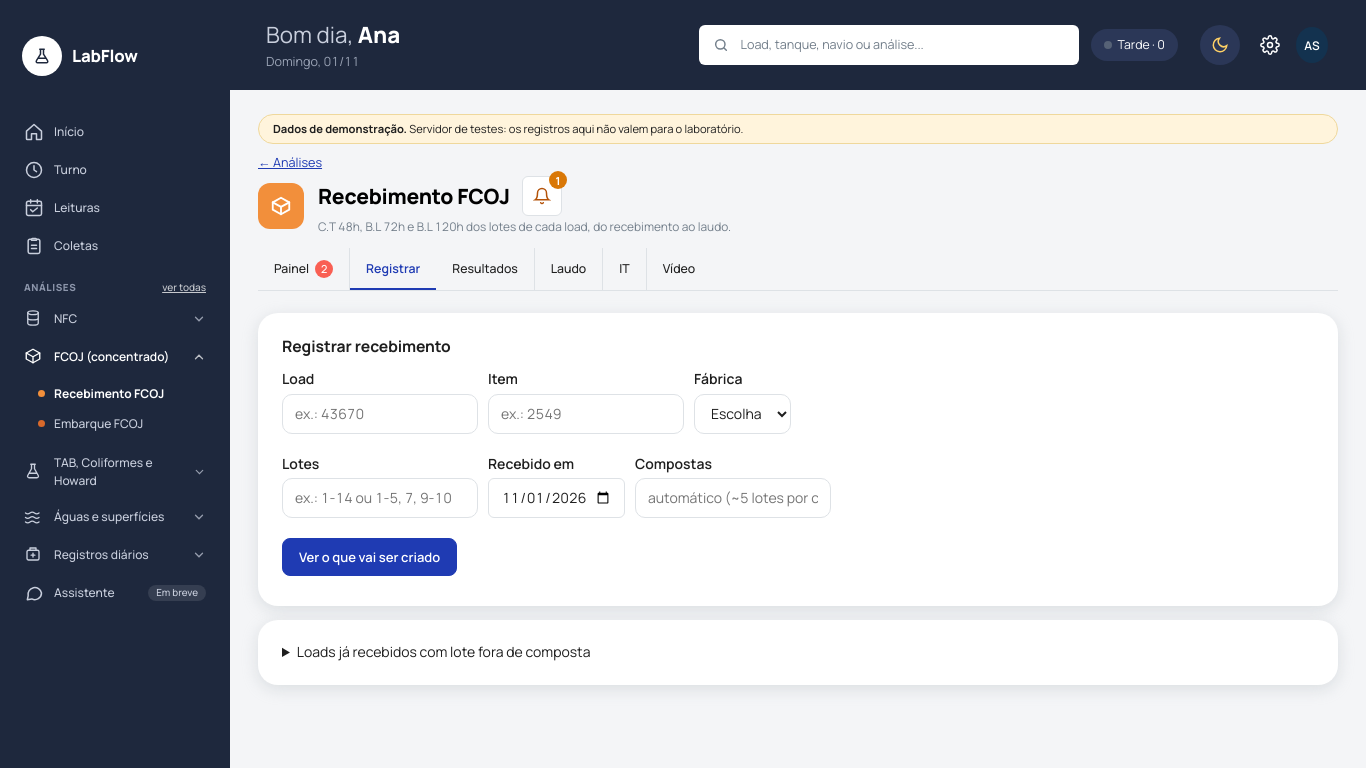
Test: Recebimento FCOJ como app (Fase E, E2) › registrar mostra a prévia do banco e só grava no Confirmar
This screenshot has width=1366, height=768.
Type "98701" into the field labelled "Load" at [380, 414], box [282, 394, 478, 434]
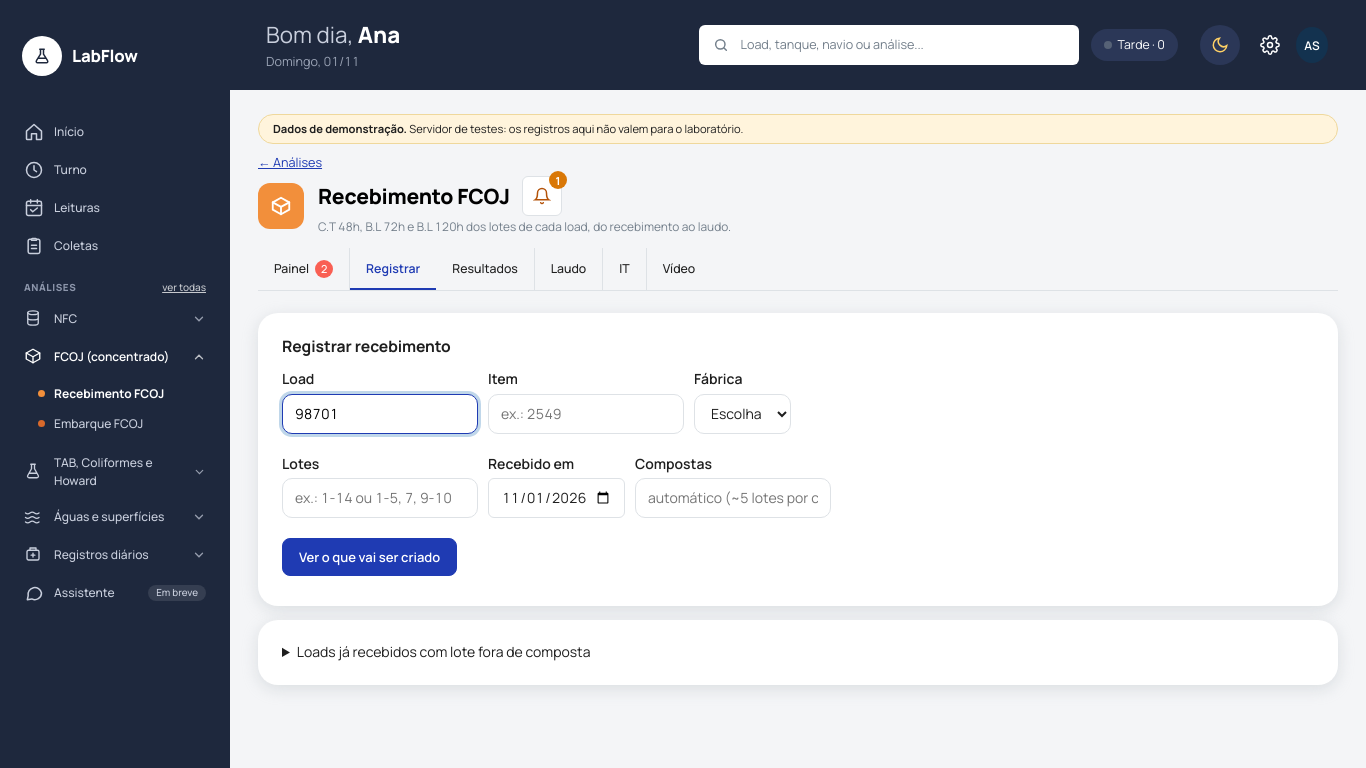
Type "99902" into the field labelled "Item" at [586, 414], box [488, 394, 684, 434]
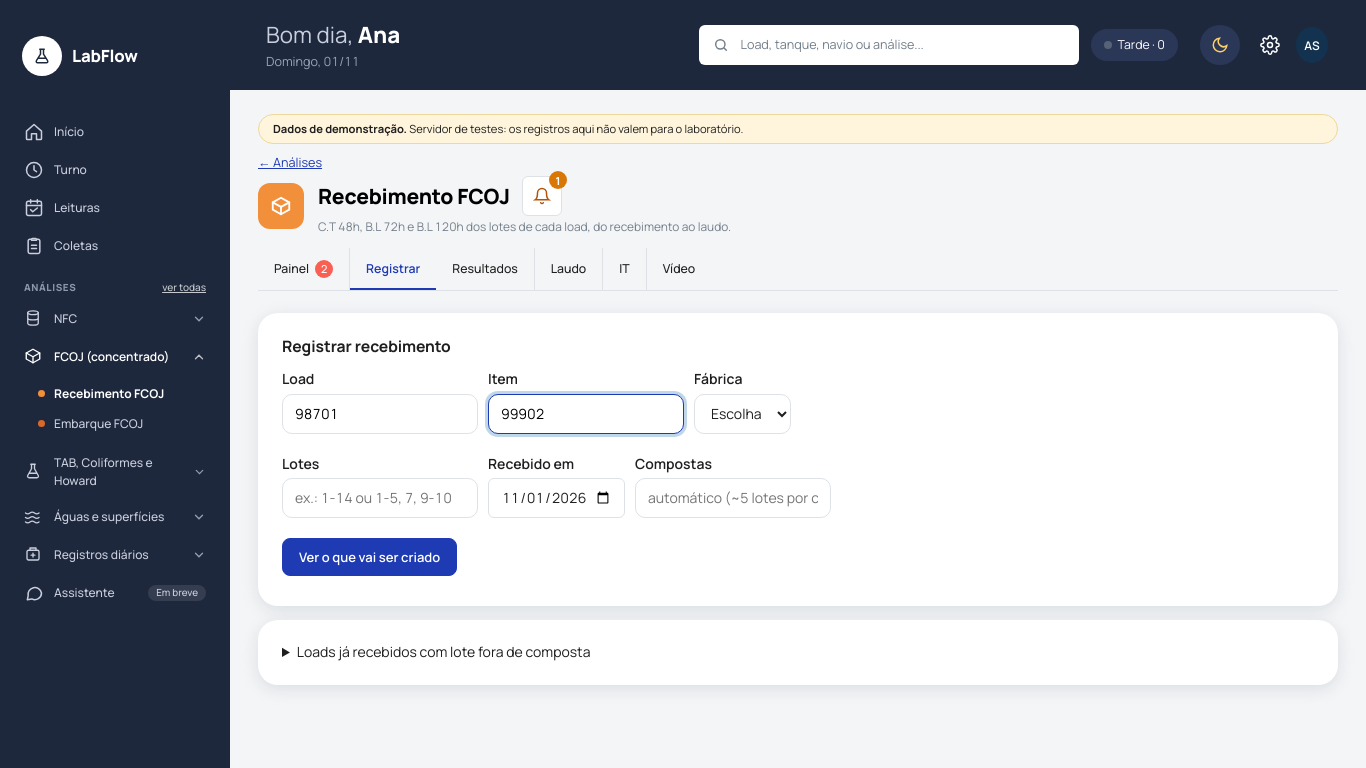
Select "AQA" in the dropdown labelled "Fábrica" at [742, 414], box [694, 394, 791, 434]
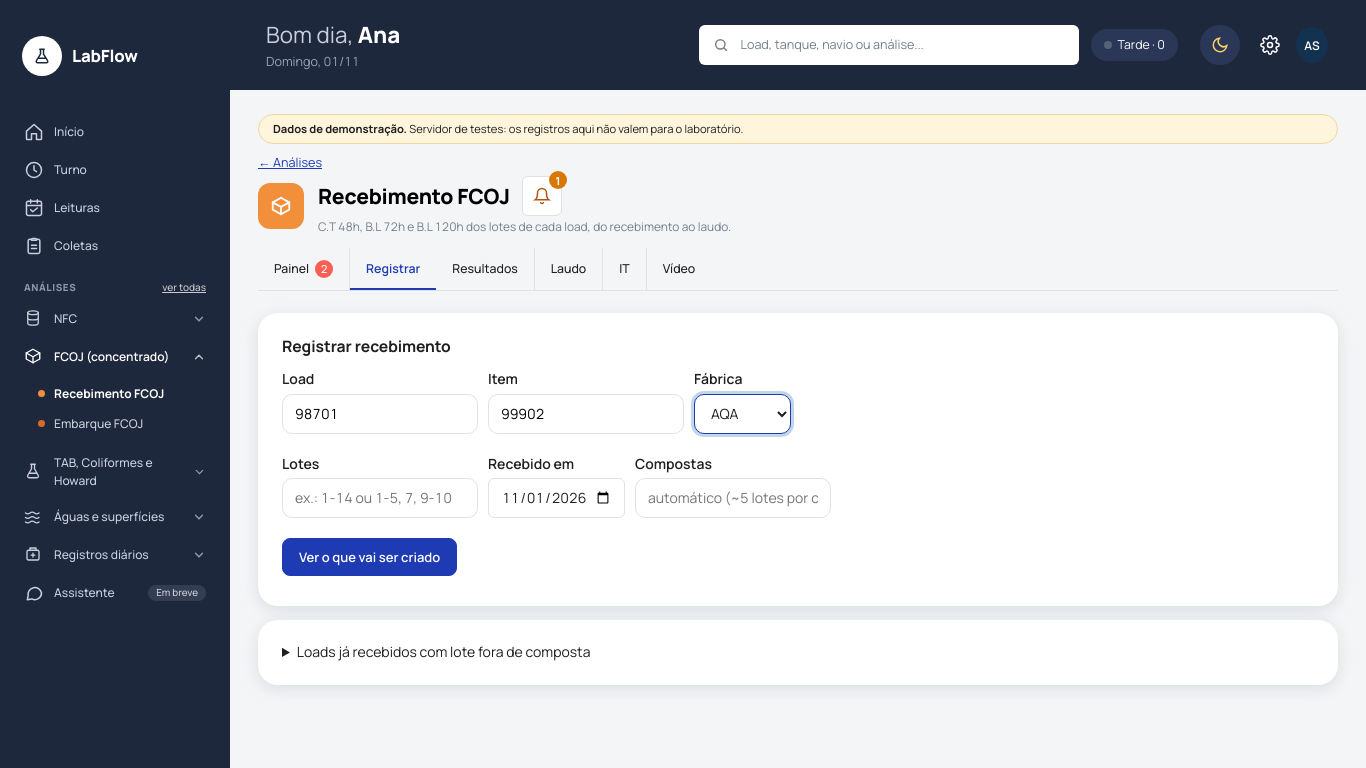
Type "1-3" into the field labelled "Lotes" at [380, 498], box [282, 478, 478, 518]
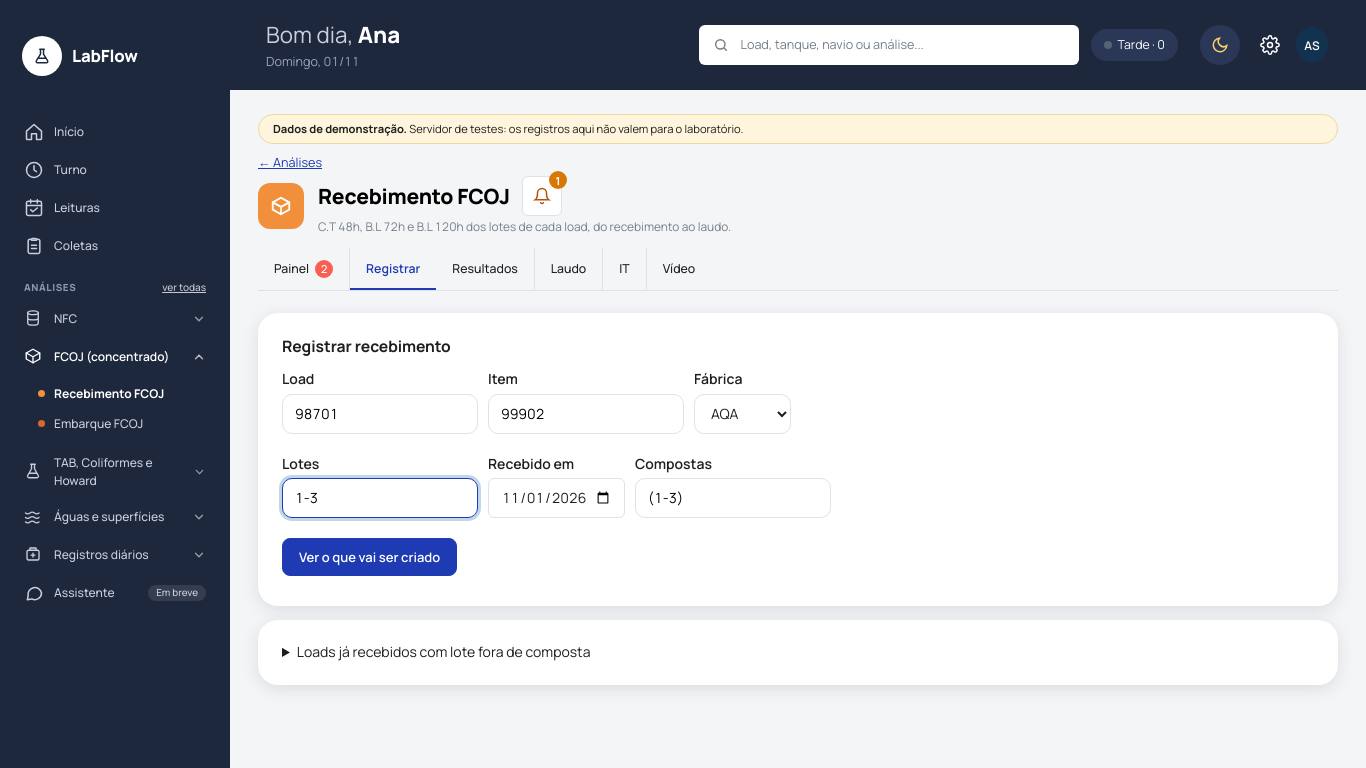
Click the button "Ver o que vai ser criado" at [370, 557], box [282, 538, 457, 576]
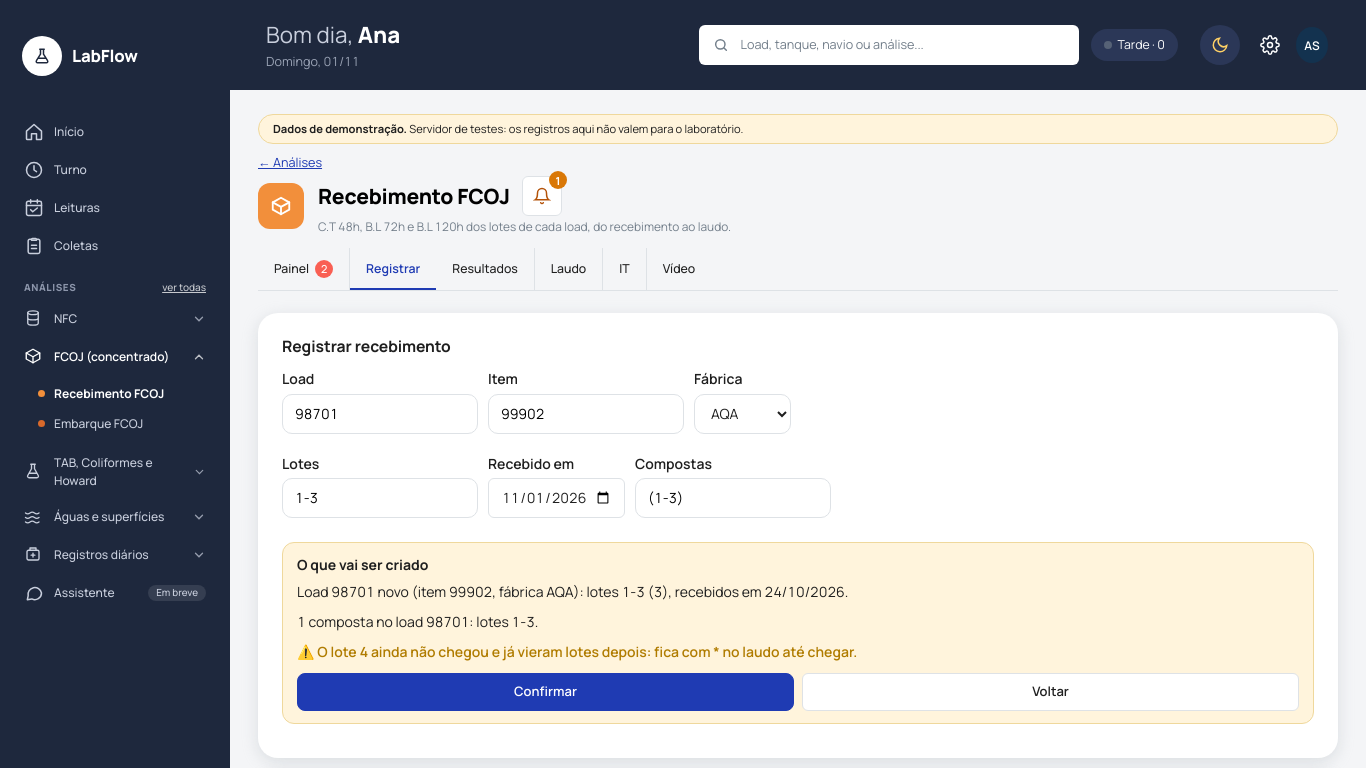
expect the field labelled "Compostas" holds "(1-3)": met, box [635, 478, 831, 518]
expect the text "Load 98701 novo" is shown: met, box [297, 582, 848, 601]
expect the text "O lote 4 ainda não chegou e já vieram lotes depois" is shown: met, box [317, 642, 857, 661]
Click the button "Confirmar" at [546, 692], box [297, 672, 794, 710]
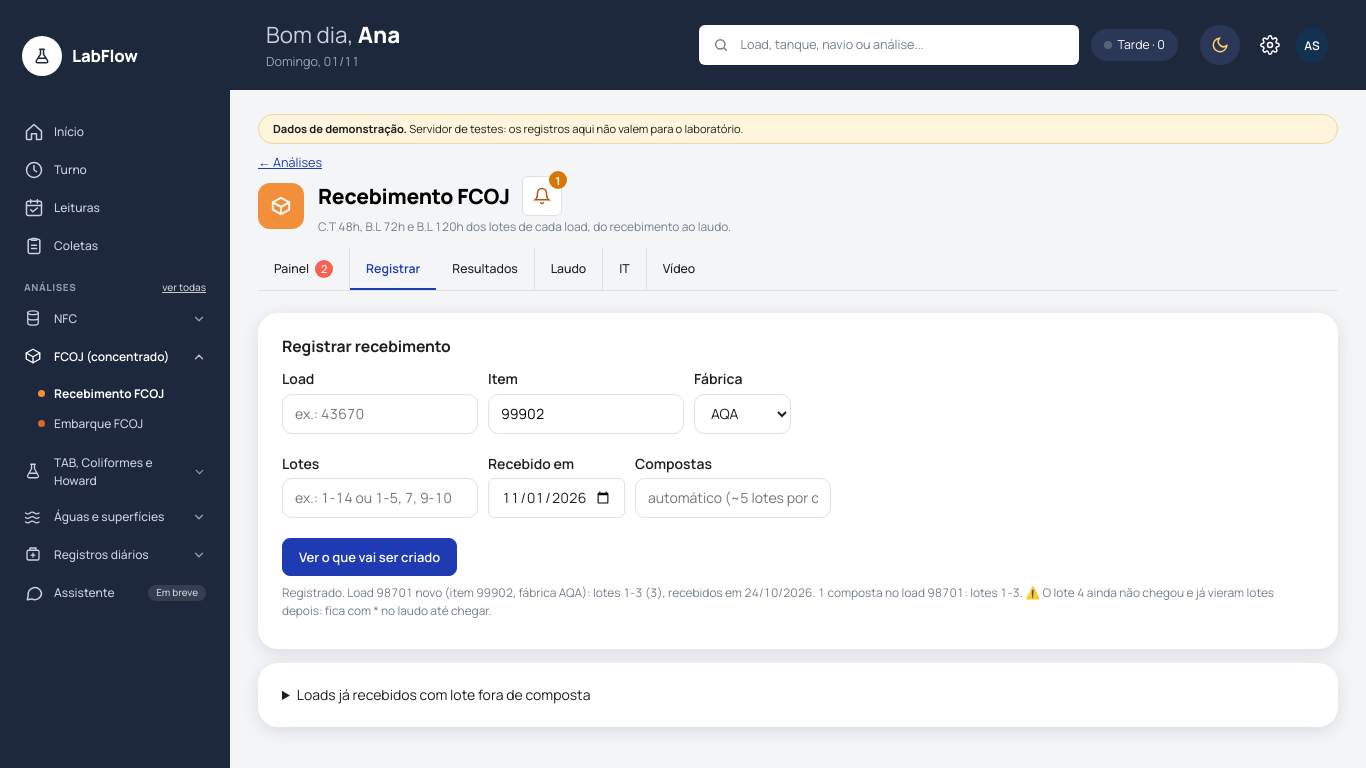
expect the text "Registrado." is shown: met, box [282, 584, 347, 601]
